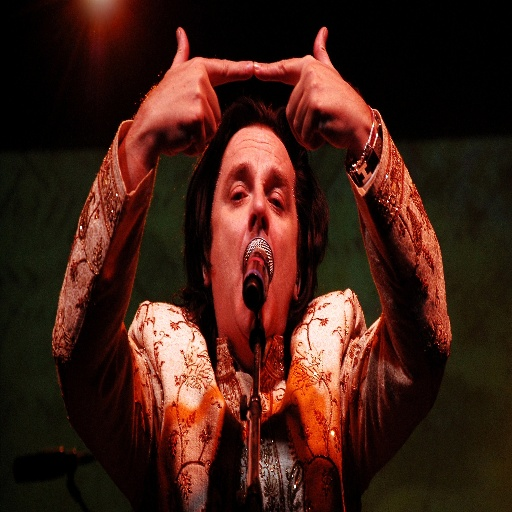hand: (141, 24, 253, 160), (277, 26, 378, 158)
